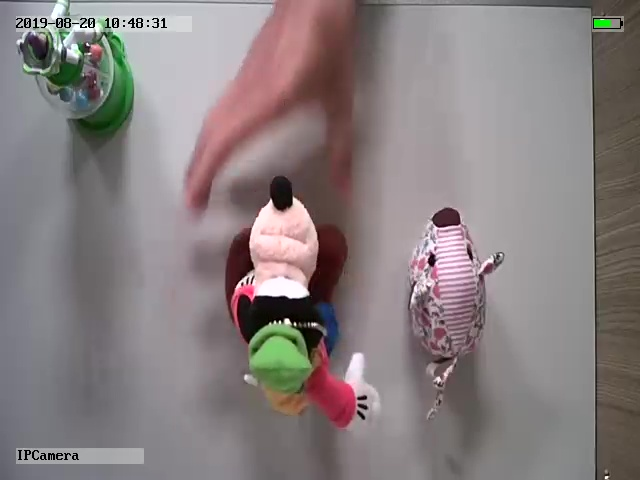buzz: (15, 4, 139, 126)
goofy: (221, 175, 384, 437)
pig: (404, 205, 506, 422)
